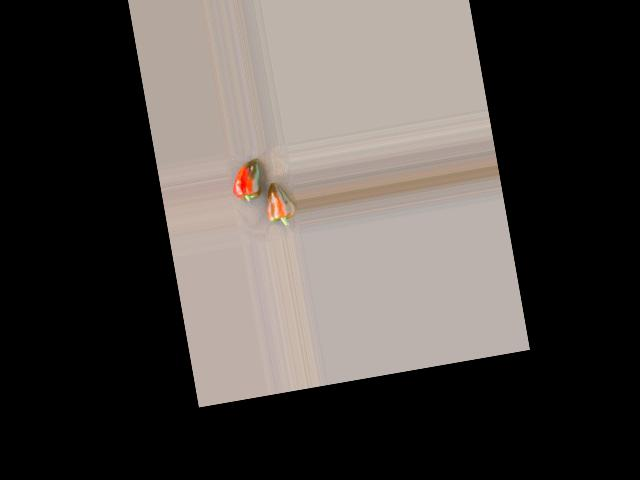bell_pepper: (226, 155, 269, 217)
